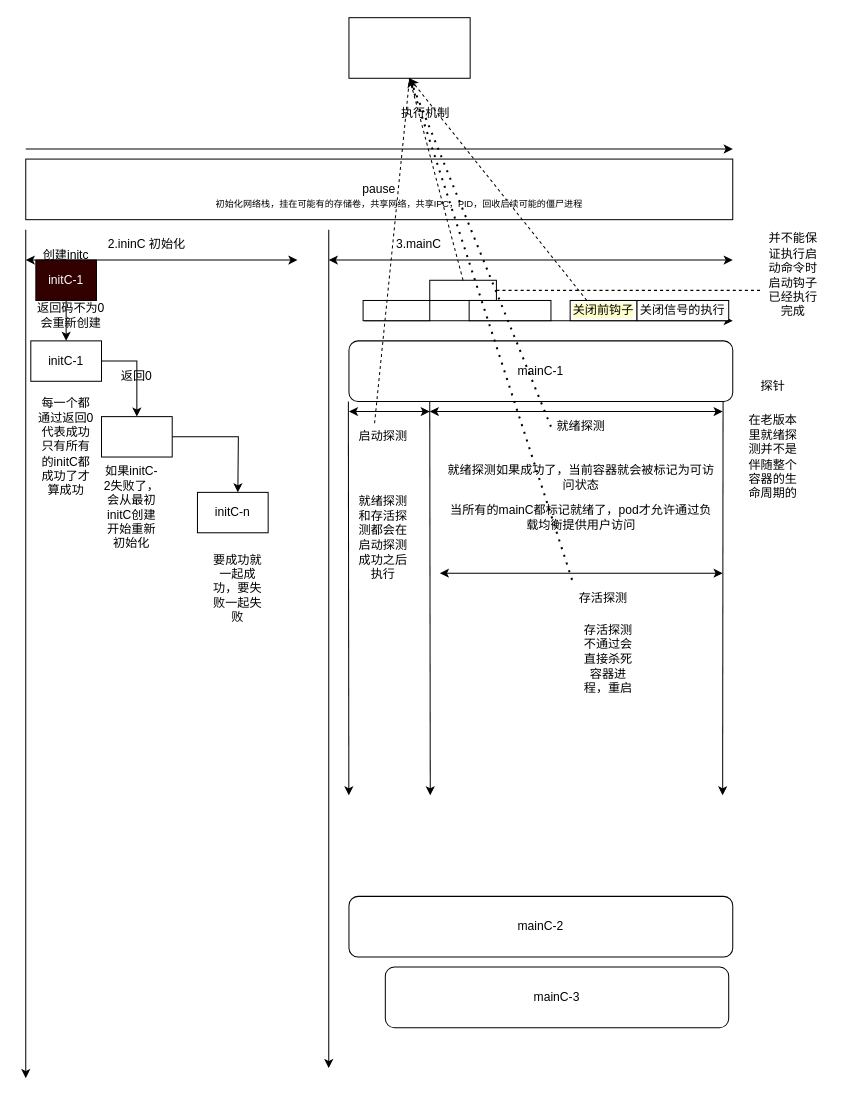
Image size: 841x1104. Some labels were removed from this diagram. The shapes that lost their labels are listed below. From the top down, each one's box as (x1, y1, x2, y2) in pixels, then its label:
(348, 17, 470, 78): pod所在节点的kubelet
(429, 279, 496, 300): 启动钩子
(362, 299, 430, 321): 初始化
(468, 299, 551, 321): 执行启动命令
(100, 416, 172, 457): initC-2
